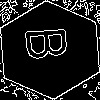B: (25, 25, 79, 62)
